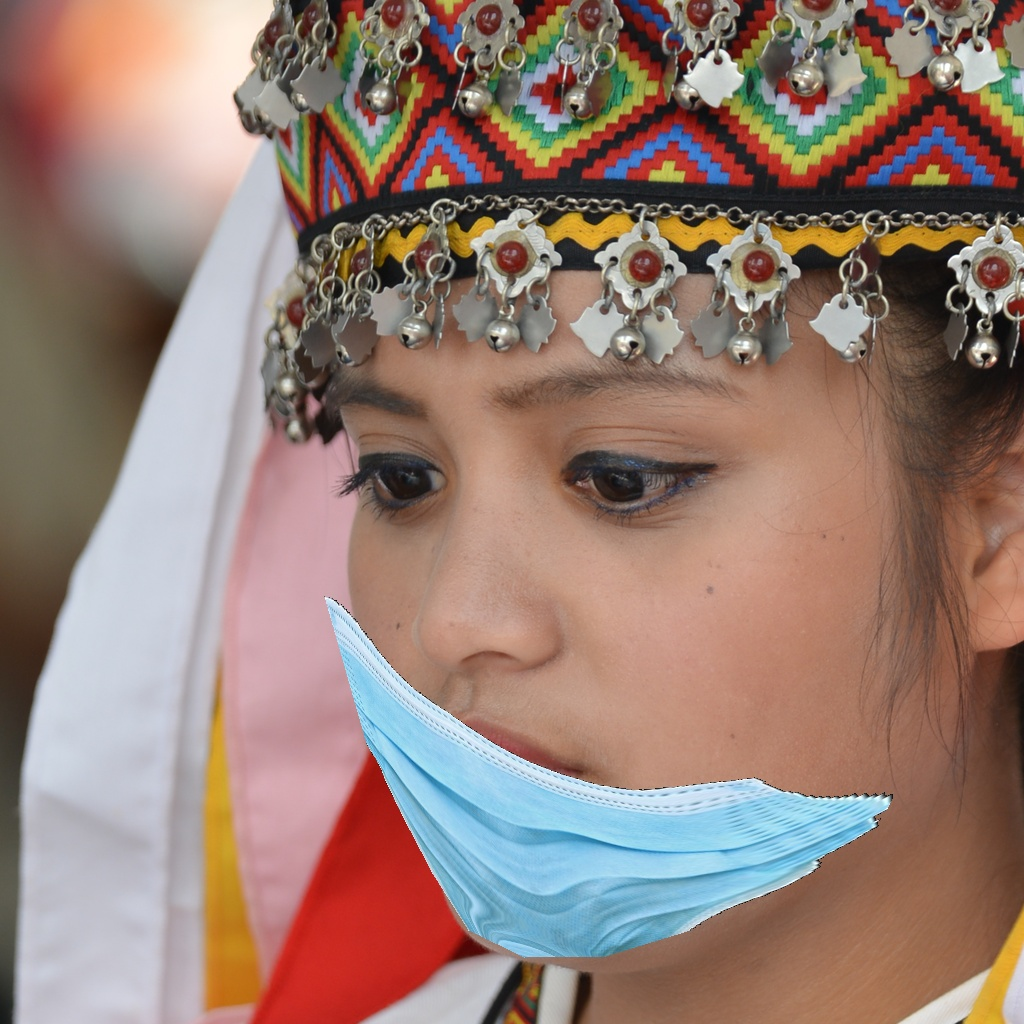mask_weared_incorrect: (273, 348, 964, 987)
